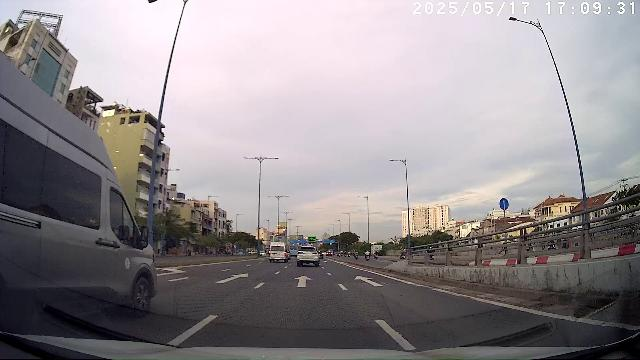301a-cac-xe-chi-duoc-di-thang: (499, 198, 509, 210)
